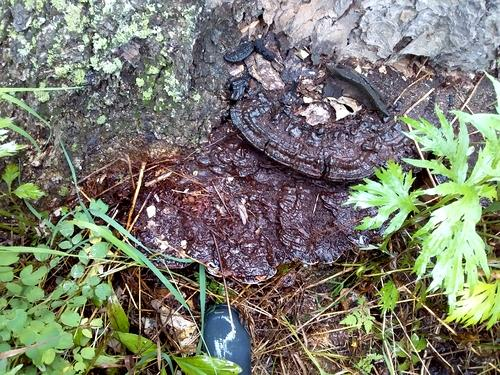Ganoderma - Fruit Body: (127, 179, 398, 284), (228, 61, 452, 177)
